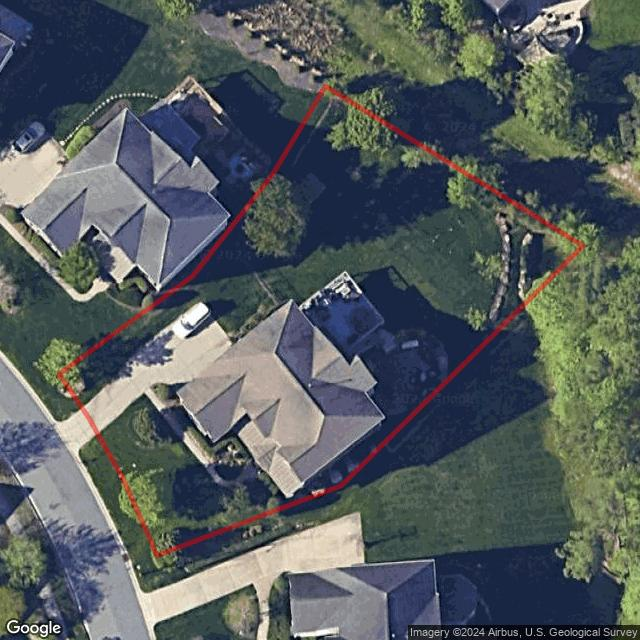Driveway: (82, 301, 234, 435)
Extra-Driveway: (58, 408, 98, 454)
Extra-Lawn: (78, 435, 159, 568), (32, 374, 82, 424)
House: (175, 298, 385, 499)
Lawn: (59, 86, 581, 556)
Other: (294, 272, 448, 493), (152, 384, 254, 481), (487, 211, 513, 323), (515, 228, 542, 300)
Sidewalk: (145, 388, 264, 490)
